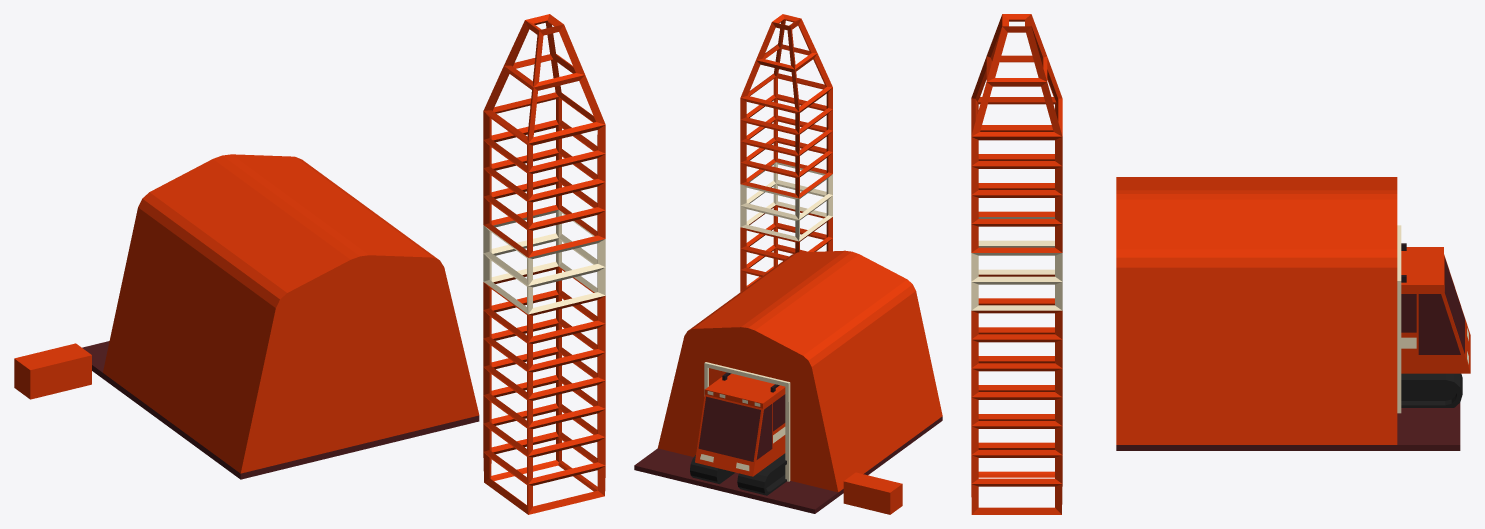
Rendered from garage.fbx.
The picture shows the model from 3 angles, left to right: view 1: azimuth 30°, elevation 25°; view 2: azimuth 150°, elevation 25°; view 3: azimuth 270°, elevation 25°; orthographic projection. The views are drawn at different scales.
Visible parts, largest first — view 1: Cube.047, Cube.084, Cube.083; view 2: Cube.047, Cube.084, Cube.058, Cube.083, Cylinder.066, Cube.061; view 3: Cube.047, Cube.084, Cube.058, Cylinder.066, Cube.061.
Boxes of the visible parts, x1,y1,x2,y2 form: Cube.047: [82, 154, 479, 479]; Cube.084: [483, 14, 605, 514]; Cube.083: [14, 343, 91, 399]; Cube.047: [634, 250, 942, 513]; Cube.084: [740, 14, 832, 291]; Cube.058: [695, 373, 785, 476]; Cube.083: [843, 472, 902, 514]; Cylinder.066: [690, 453, 786, 495]; Cube.061: [704, 362, 790, 481]; Cube.047: [1116, 177, 1460, 450]; Cube.084: [971, 14, 1062, 514]; Cube.058: [1401, 247, 1470, 373]; Cylinder.066: [1401, 373, 1462, 407]; Cube.061: [1397, 225, 1401, 413].
Size of the model in its own units: 970 by 1163 by 1106.
